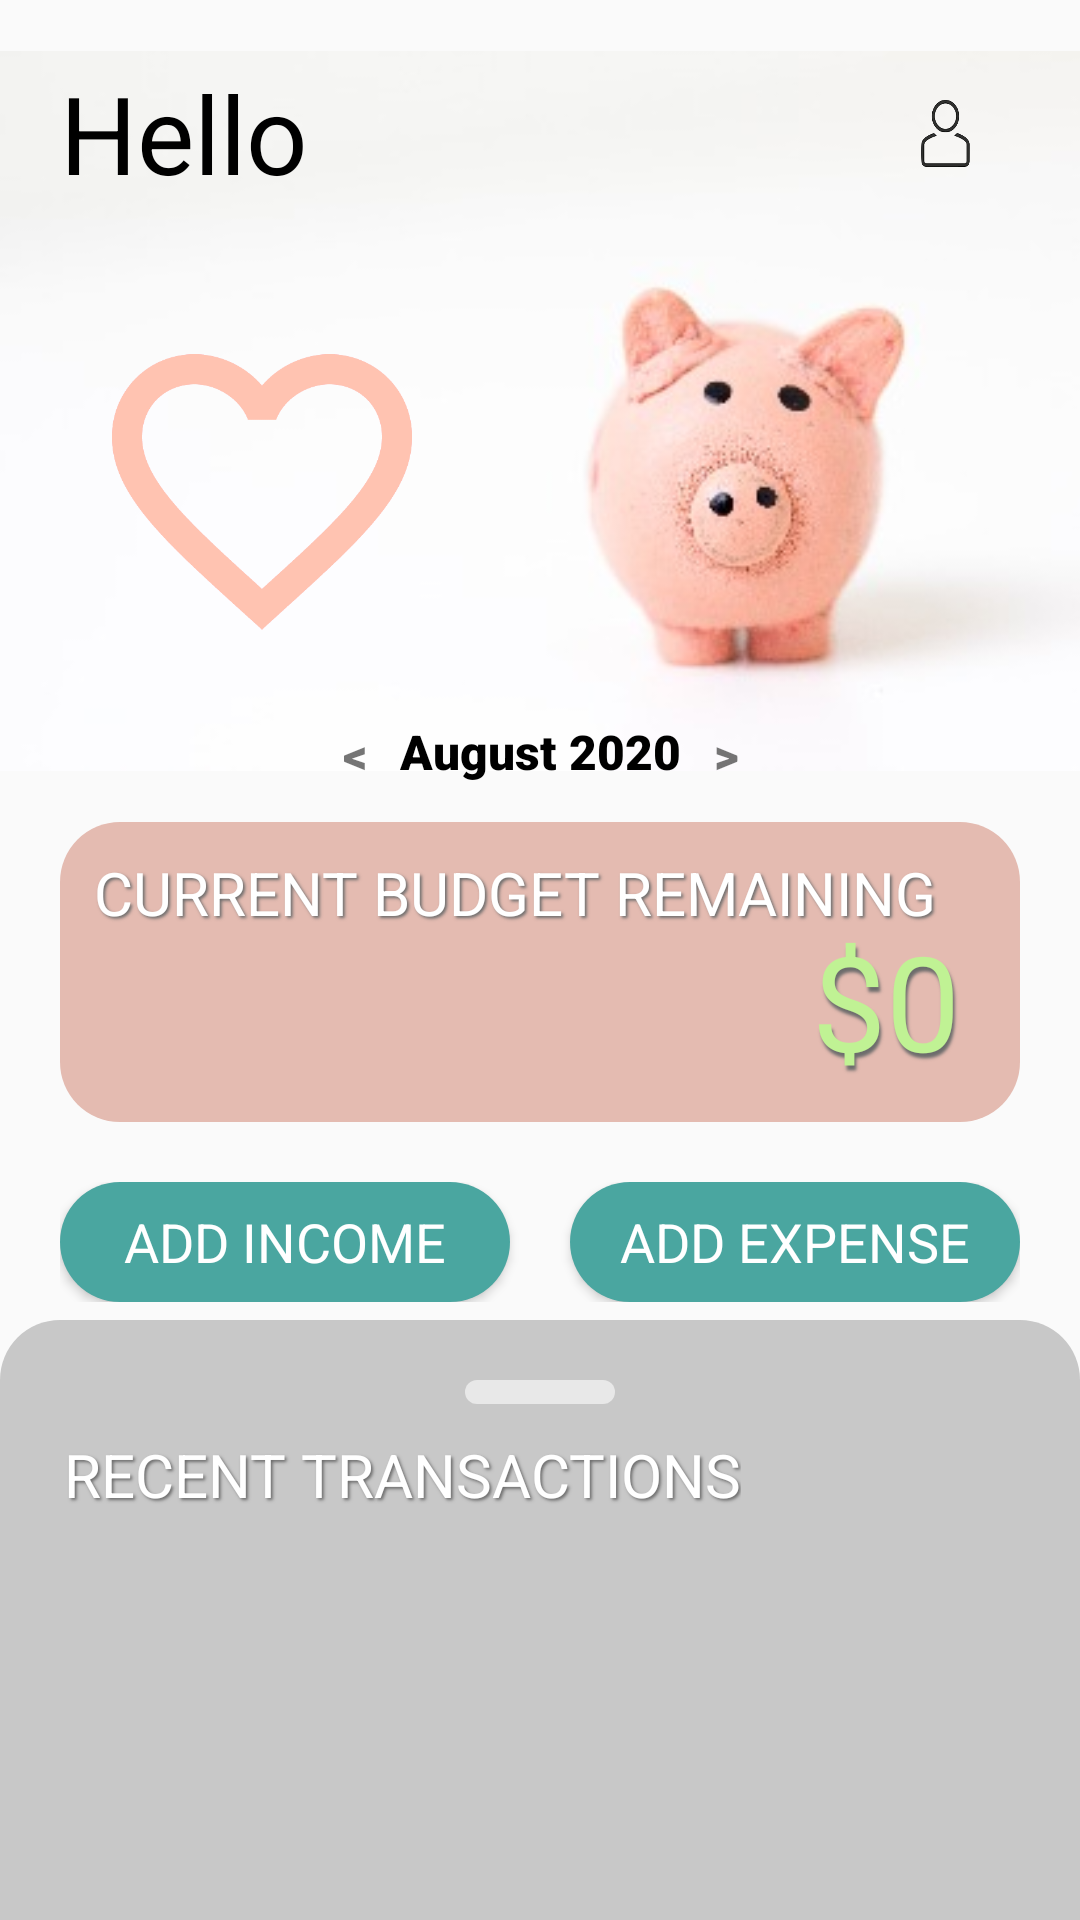

Icons on this 1080 × 1920 Android screen, each with its box as rect(x1, y1, x2, y2):
account: rect(921, 100, 970, 167)
heart: rect(112, 354, 412, 630)
